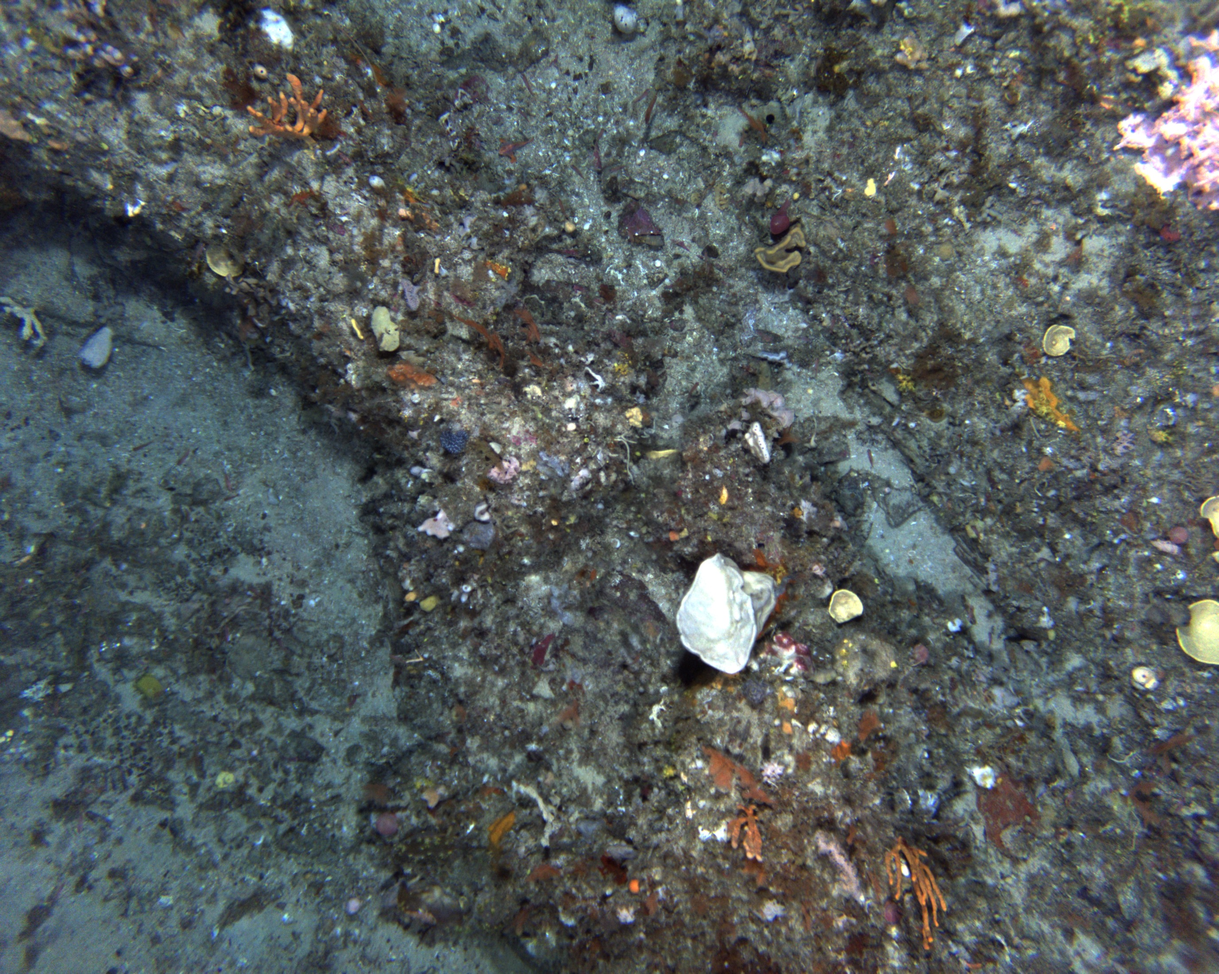Brachionichthyidae: (497, 135, 536, 165)
